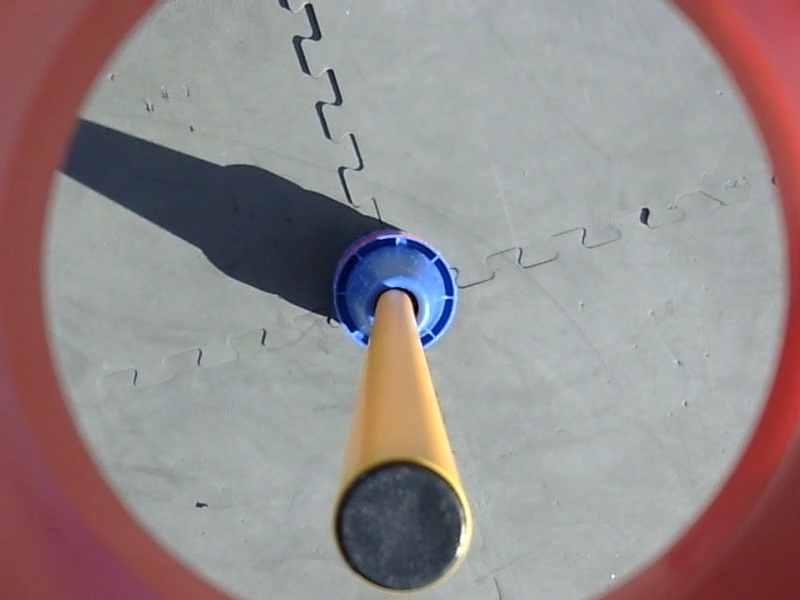tip: (325, 450, 482, 600)
